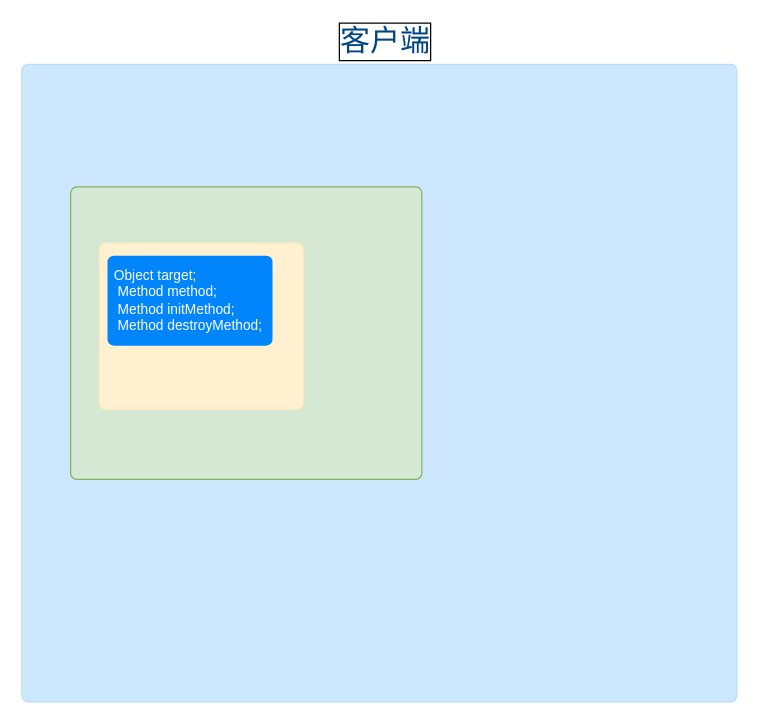
This 759x724 diagram has some shape labels left out. The shapes that lost their labels are listed below. From the top down, each one's box as (x1, y1, x2, y2) in pixels, then its label:
(98, 242, 303, 409): MethodJobHandler
(69, 186, 422, 479): XxlJobExecutor
